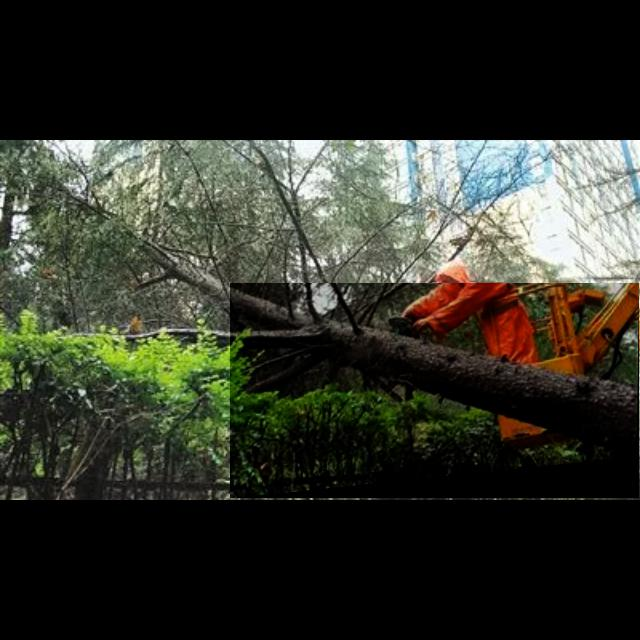Fallen Tree: (230, 283, 640, 499)
